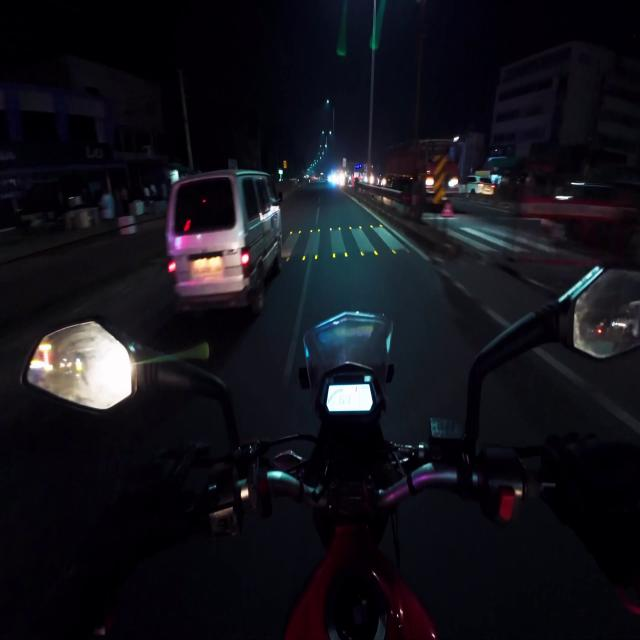car: (166, 171, 281, 313), (459, 176, 494, 196)
motorcycle: (23, 267, 639, 639)
